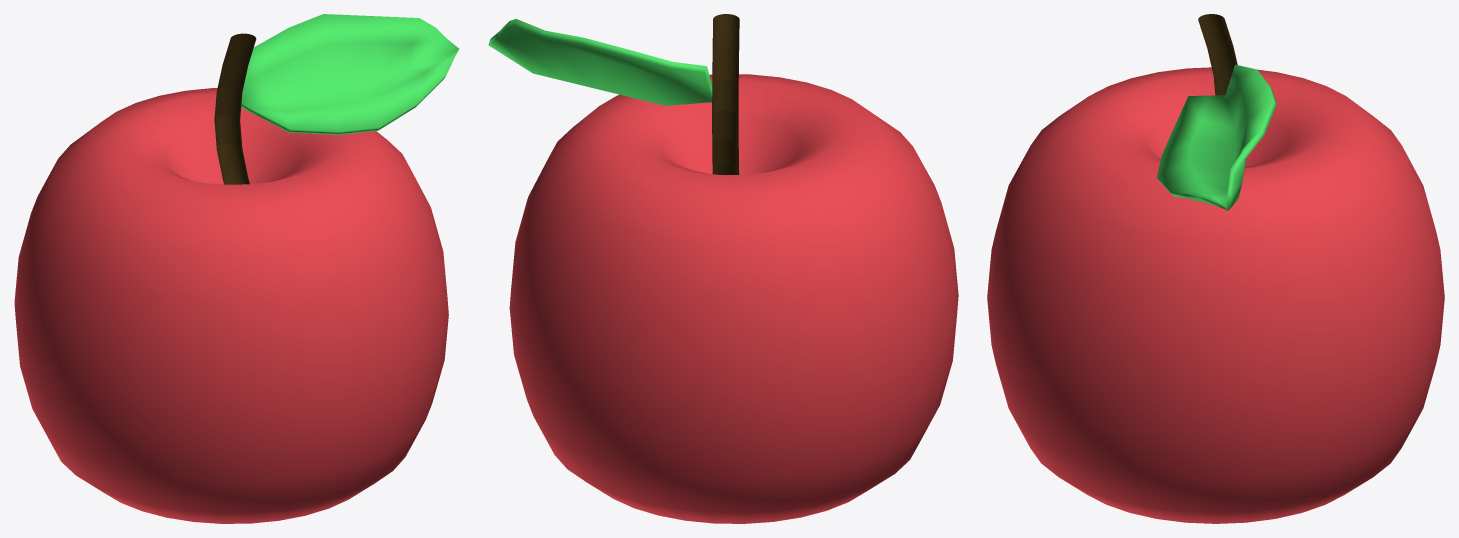
File: apple.glb
3 renders of one model, left to right at view 1: azimuth 30°, elevation 25°; view 2: azimuth 150°, elevation 25°; view 3: azimuth 270°, elevation 25°, orthographic. The views are drawn at different scales.
Visible parts, largest first — view 1: Sphere, Plane, Cylinder; view 2: Sphere, Plane, Cylinder; view 3: Sphere, Plane, Cylinder.
Boxes of the visible parts, x1,y1,x2,y2 form: Sphere: (14,88,448,523); Plane: (241,14,459,134); Cylinder: (214,33,256,184); Sphere: (509,74,958,523); Plane: (488,19,712,105); Cylinder: (712,14,739,174); Sphere: (987,67,1444,523); Plane: (1157,64,1276,210); Cylinder: (1198,14,1237,95).
Bounding box in the file's own units: 1.92 × 1.85 × 1.72.
